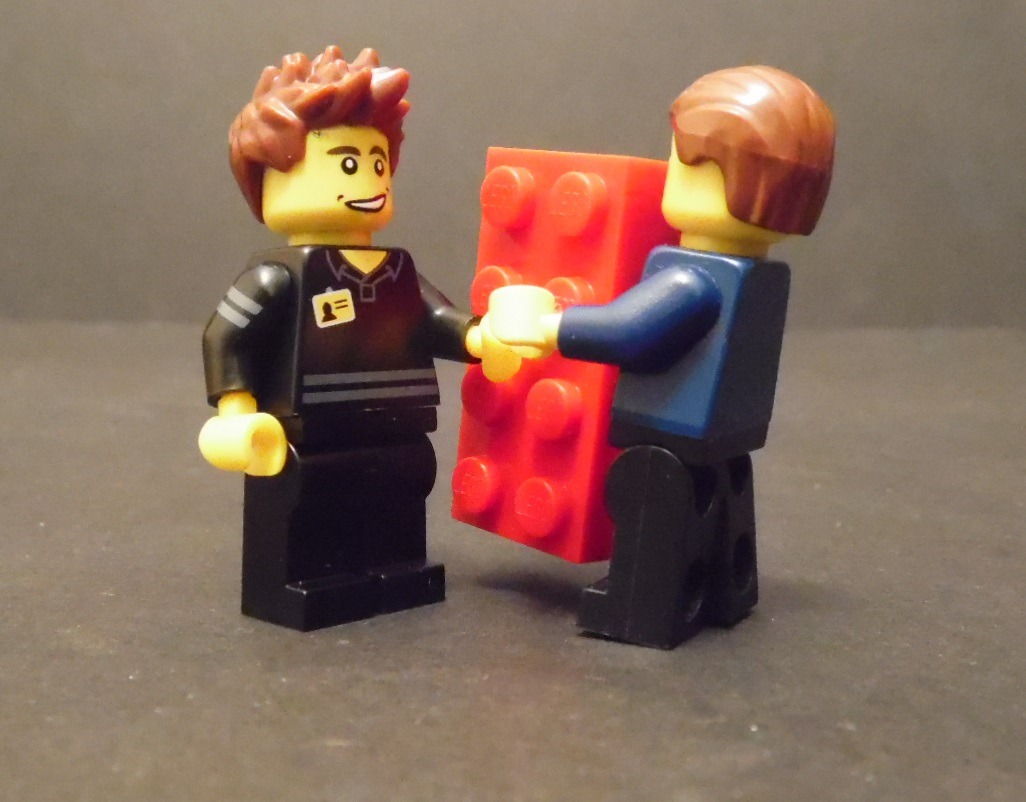lego: (495, 46, 847, 666), (191, 41, 491, 640)
